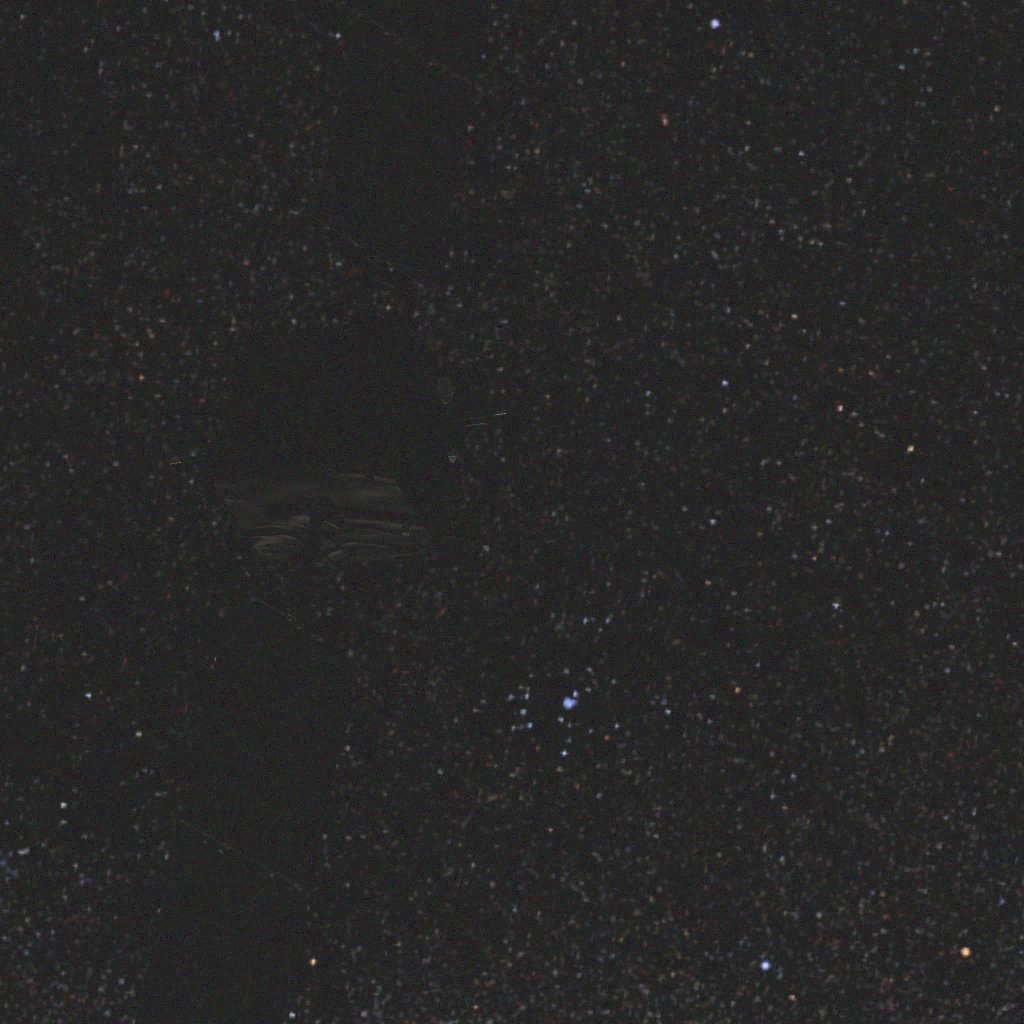smart_1: (135, 0, 507, 1024)
